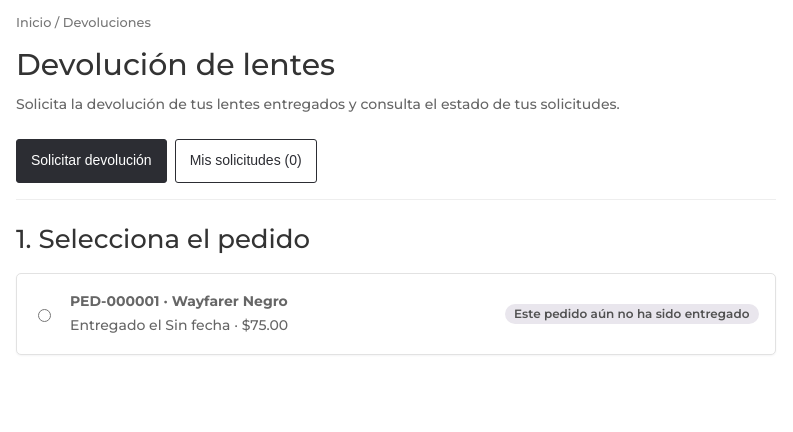
Test case: ReturnsPage › RN1: un pedido no entregado muestra el motivo y no deja solicitar
Click the radio button labelled "PED-000001" at coordinates (44, 315), box [38,309,51,322]
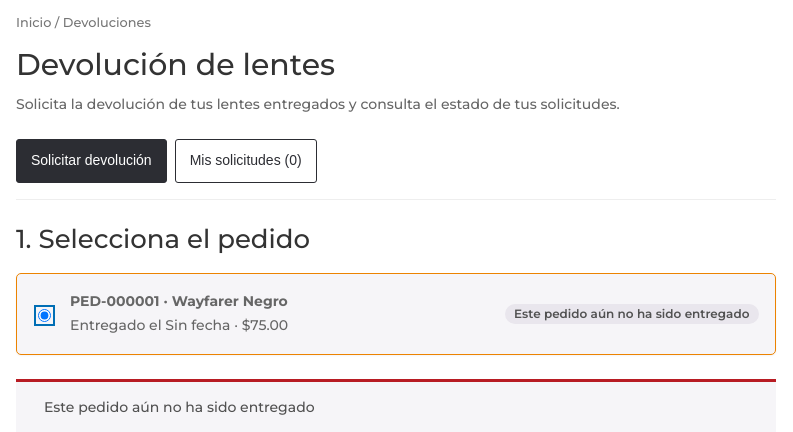
Result: the message reads "Este pedido aún no ha sido entregado" at [44,398,315,416]
